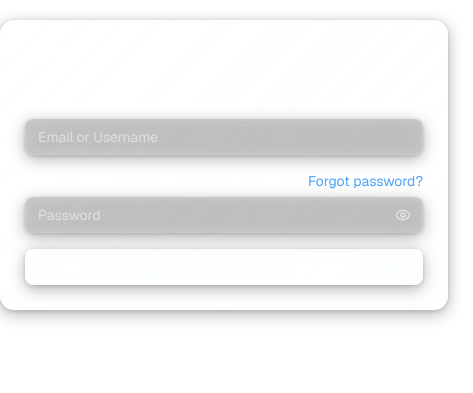
it: LoginPage › shows error when login fails
The image size is (473, 393).
In the field with placeholder "Email or username": point(224, 137) [25,119,423,155], type "test@example.com"
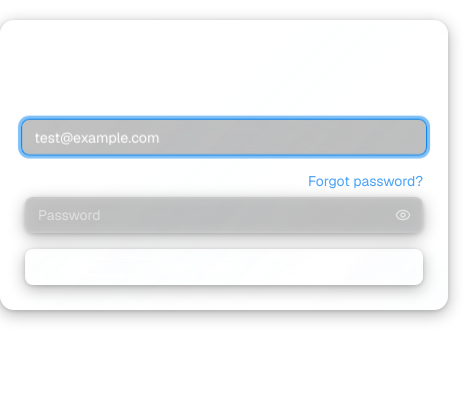
In the password field with placeholder "Password": point(224, 215) [25,197,423,233], type "wrongpassword"
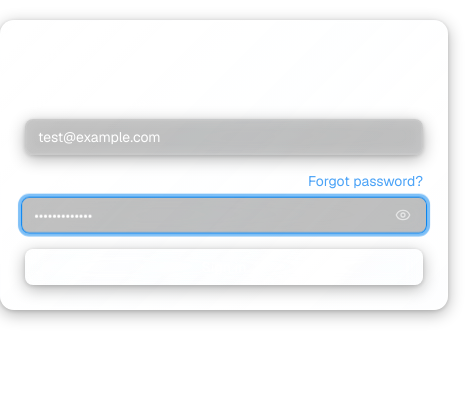
Click the button "Sign in": point(224, 267) [25,249,423,285]
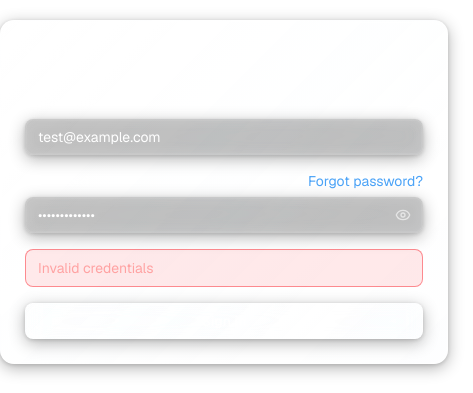
Expected: the text "Invalid credentials" is shown, [25,249,423,287]
